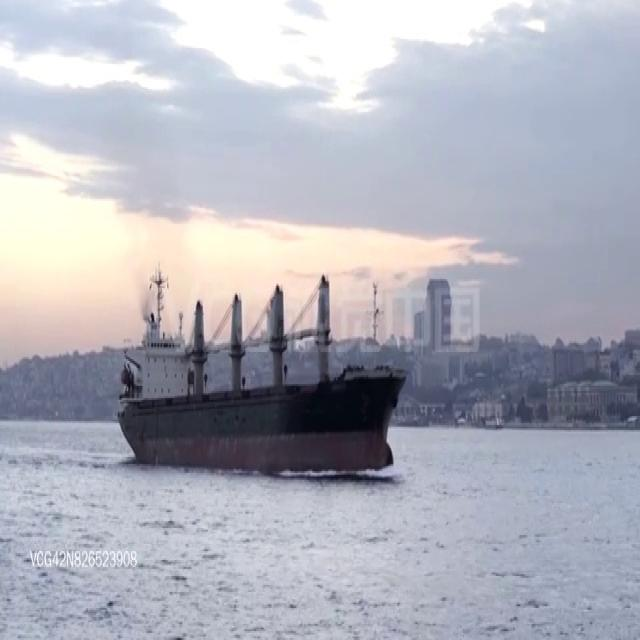cargoship: (118, 268, 402, 478)
